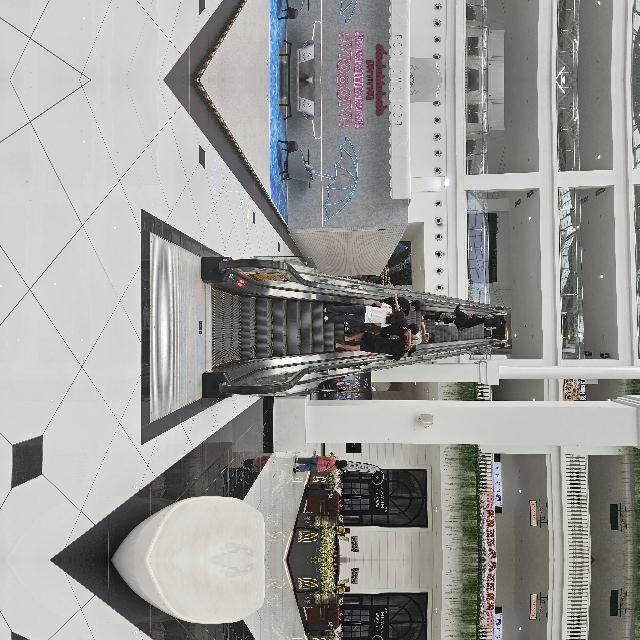obstacle: (576, 453, 640, 609), (576, 511, 640, 640), (219, 399, 263, 441), (160, 405, 201, 441)
person: (408, 303, 443, 386), (382, 315, 408, 397), (399, 300, 417, 376), (385, 245, 405, 299), (536, 373, 554, 427), (395, 233, 411, 284), (397, 214, 411, 236)
stair: (335, 351, 477, 509), (335, 611, 477, 640)
